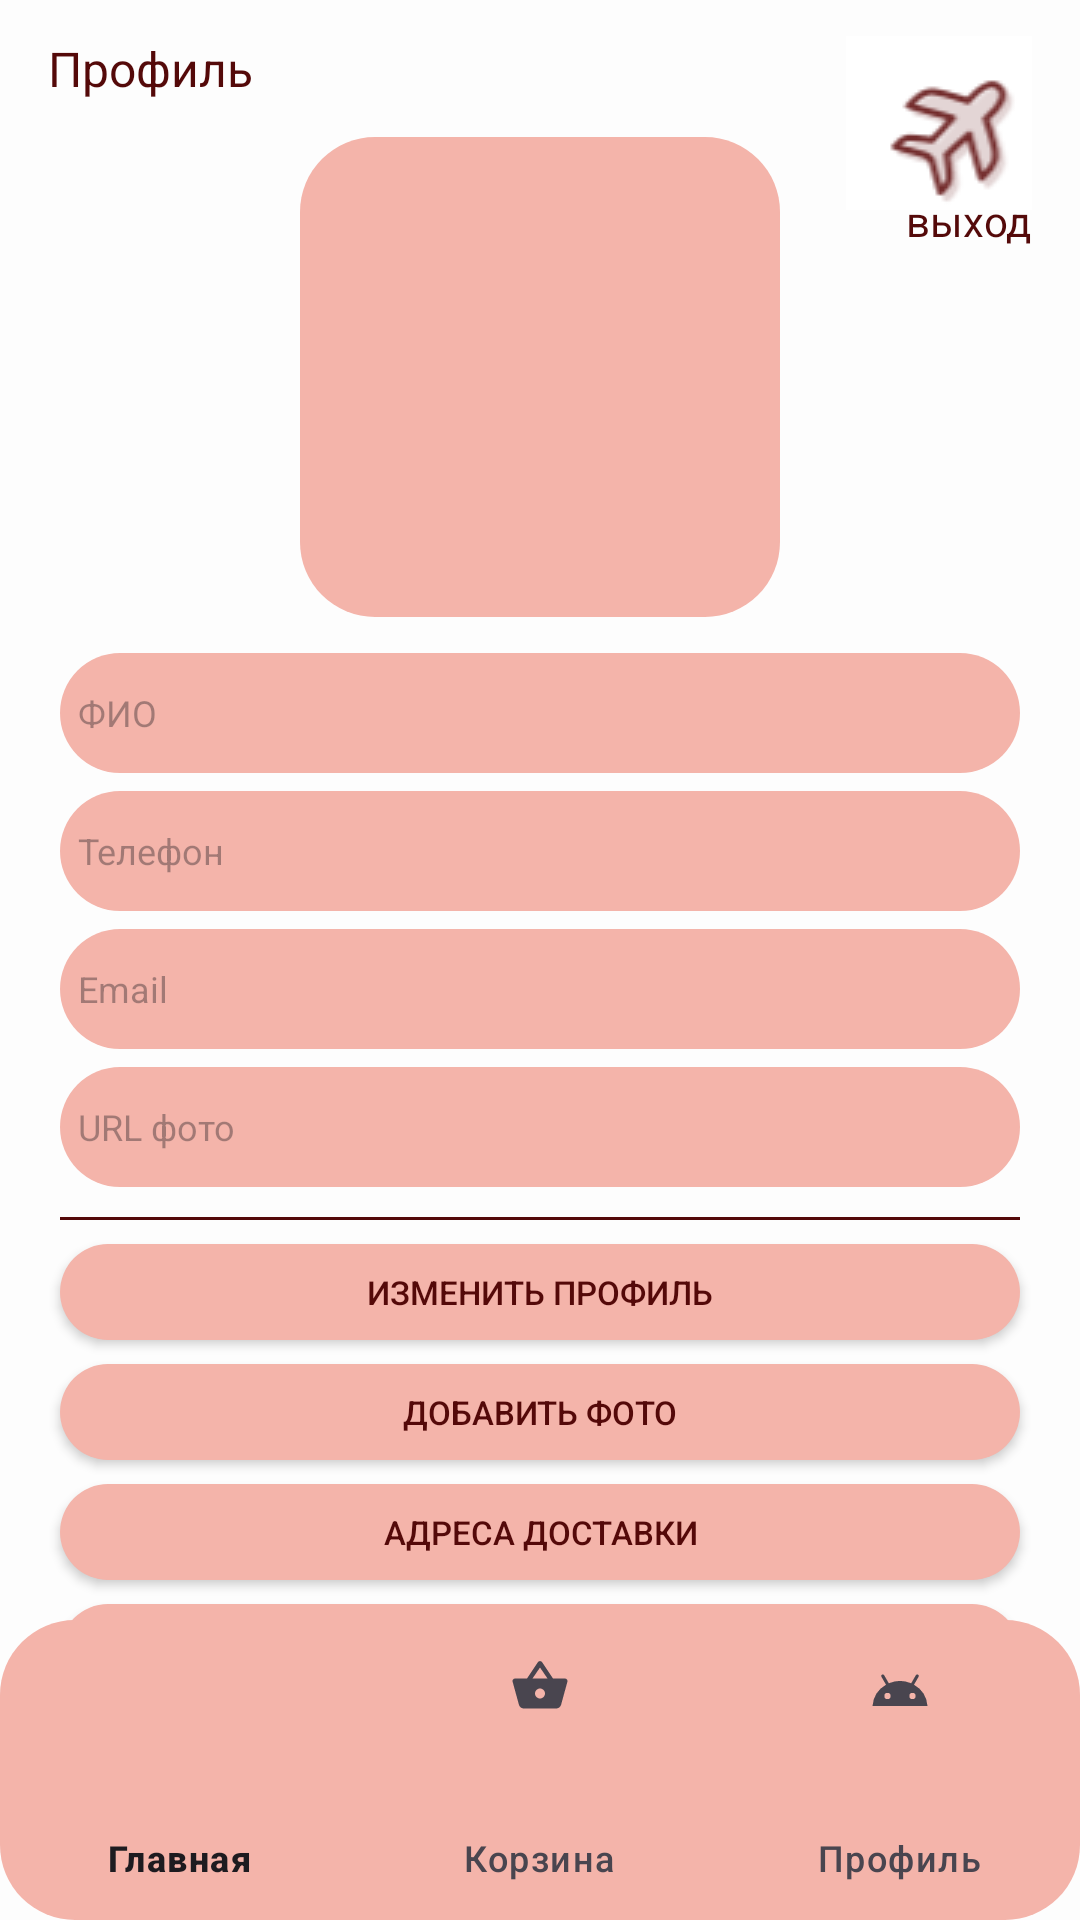

Locate icon controls on the screen. Image size 1080 x 1920, boxes as (x1, y1, x2, y2).
samolet: (890, 80, 1011, 201)
